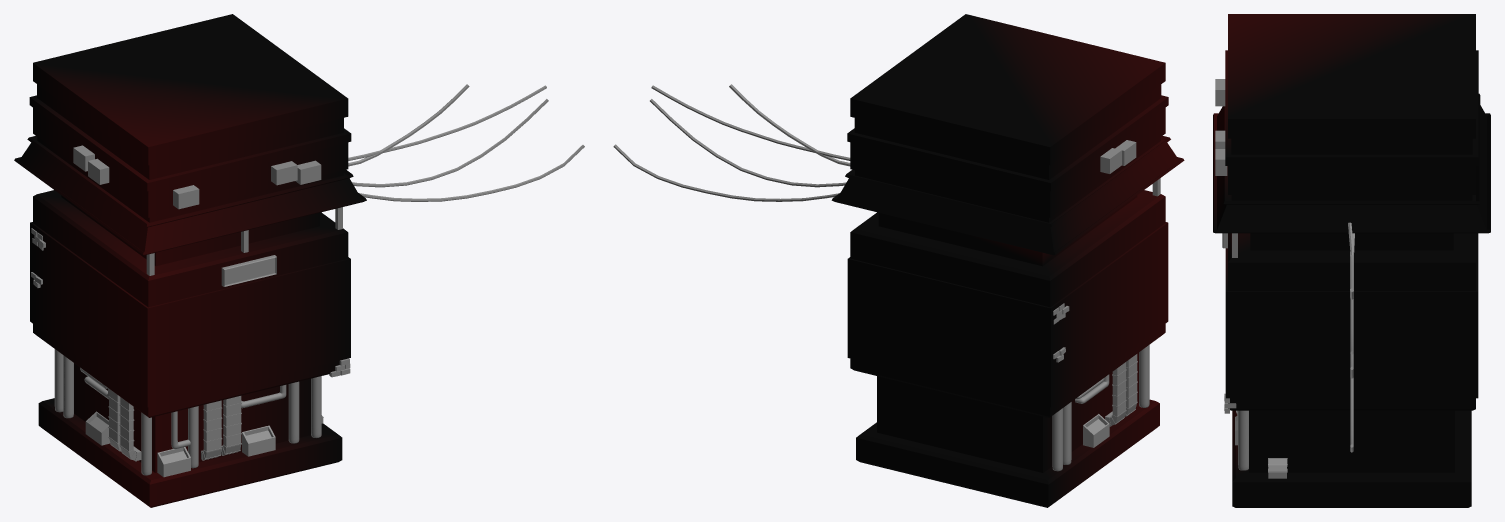
Rendered from SM_Building_China_01.fbx.
3 renders of one model, left to right at view 1: azimuth 30°, elevation 25°; view 2: azimuth 150°, elevation 25°; view 3: azimuth 270°, elevation 25°, orthographic. The views are drawn at different scales.
Parts seen in each view (by area): view 1: polySurface2, pCube21, pCube12, pCube13, pCylinder3, pCube25, pCube14, pCylinder4, pCube20, pCylinder6, pCube16, pCube26 (+3 smaller); view 2: polySurface2, pCylinder3, pCube26, pCylinder4, pCylinder6, pCube27, pCube25, pCube32, pCube28; view 3: polySurface2, pCube17, pCube45, pCylinder6.
Boxes of the visible parts, x1=… form: polySurface2: x1=14, y1=14, x2=366, y2=507; pCube21: x1=221, y1=255, x2=276, y2=286; pCube12: x1=201, y1=400, x2=222, y2=460; pCube13: x1=221, y1=396, x2=241, y2=455; pCylinder3: x1=359, y1=145, x2=584, y2=201; pCube25: x1=119, y1=397, x2=141, y2=461; pCube14: x1=242, y1=425, x2=275, y2=456; pCylinder4: x1=352, y1=99, x2=548, y2=187; pCube20: x1=157, y1=447, x2=190, y2=477; pCylinder6: x1=348, y1=85, x2=546, y2=160; pCube16: x1=288, y1=381, x2=299, y2=443; pCube26: x1=108, y1=389, x2=121, y2=451; polySurface2: x1=831, y1=14, x2=1184, y2=507; pCylinder3: x1=613, y1=144, x2=838, y2=201; pCube26: x1=1105, y1=362, x2=1126, y2=426; pCylinder4: x1=650, y1=99, x2=846, y2=187; pCylinder6: x1=651, y1=85, x2=850, y2=160; pCube27: x1=1083, y1=414, x2=1109, y2=447; pCube25: x1=1124, y1=354, x2=1137, y2=416; pCube32: x1=1139, y1=345, x2=1149, y2=407; pCube28: x1=1052, y1=408, x2=1062, y2=471; polySurface2: x1=1213, y1=14, x2=1490, y2=507; pCube17: x1=1238, y1=410, x2=1248, y2=470; pCube45: x1=1268, y1=458, x2=1287, y2=478; pCylinder6: x1=1350, y1=233, x2=1354, y2=354.
Bounding box in the file's own units: 2.46 × 1.7 × 1.09.
